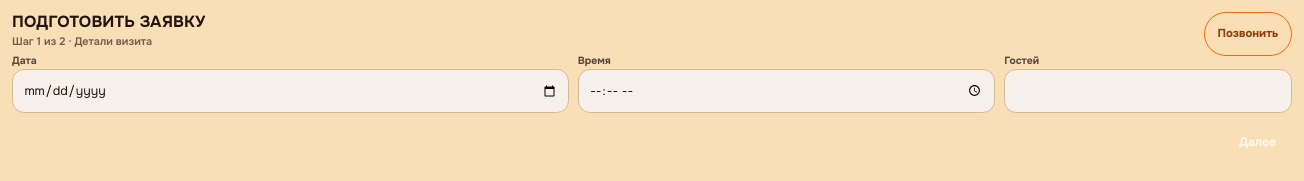
BookingHelper › moves forward and back between the two named steps while preserving details
Type "2099-09-15" into the date field labelled "Дата" at (290,91), box [12,69,569,113]
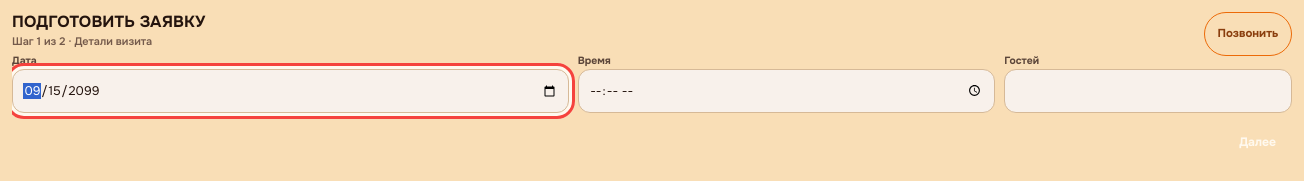
Type "18:30" into the time field labelled "Время" at (787,91), box [578,69,995,113]
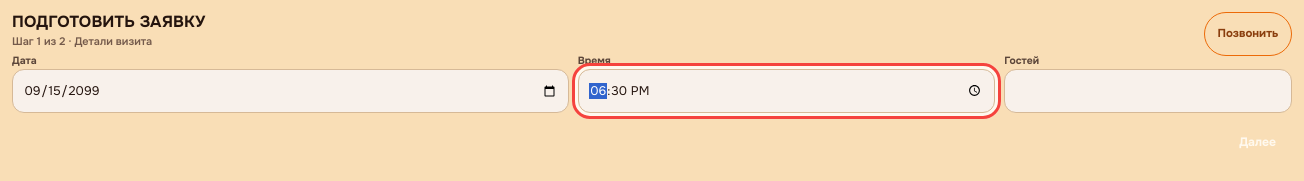
Type "4" into the number field labelled "Гостей" at (1148,91), box [1004,69,1292,113]
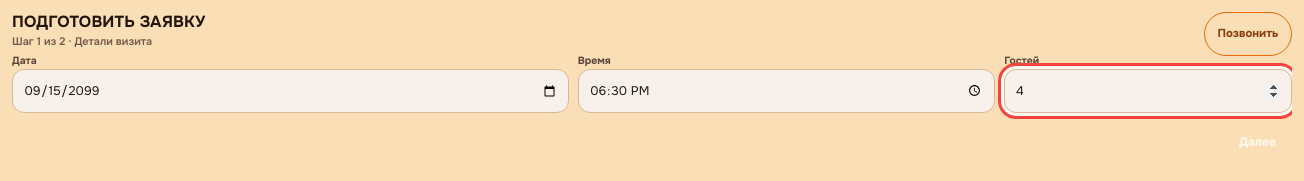
Click the button "Далее" at (1258,142), box [1223,120,1292,164]
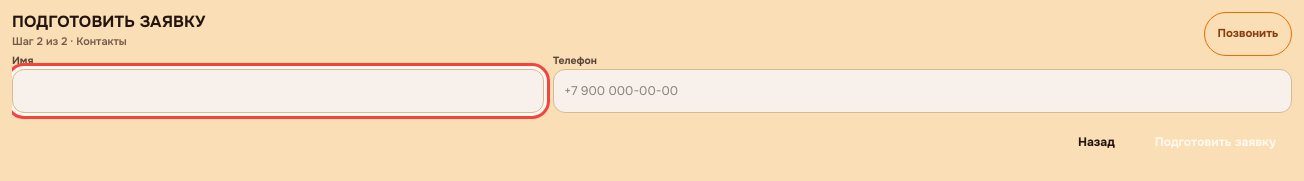
Check: the field labelled "Имя" has attribute autocomplete="name", box [12,69,544,113]
Check: the field labelled "Телефон" has attribute inputmode="tel", box [553,69,1292,113]
Click the button "Назад" at (1096,142), box [1062,120,1131,164]
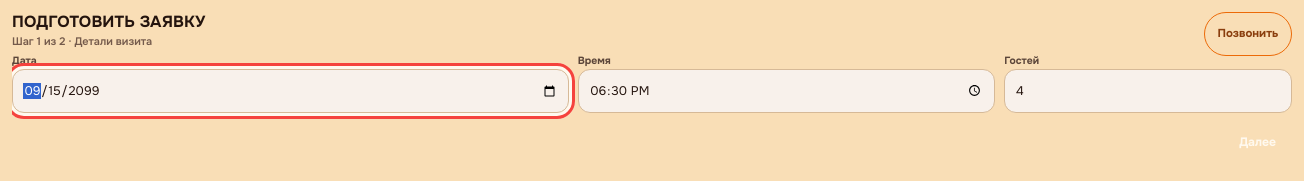
Check: the text "Шаг 1 из 2 · Детали визита" is shown, box [12,34,152,48]
Check: the number field labelled "Гостей" holds "4", box [1004,69,1292,113]
